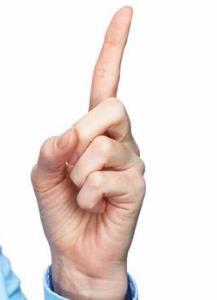up: (24, 1, 150, 267)
